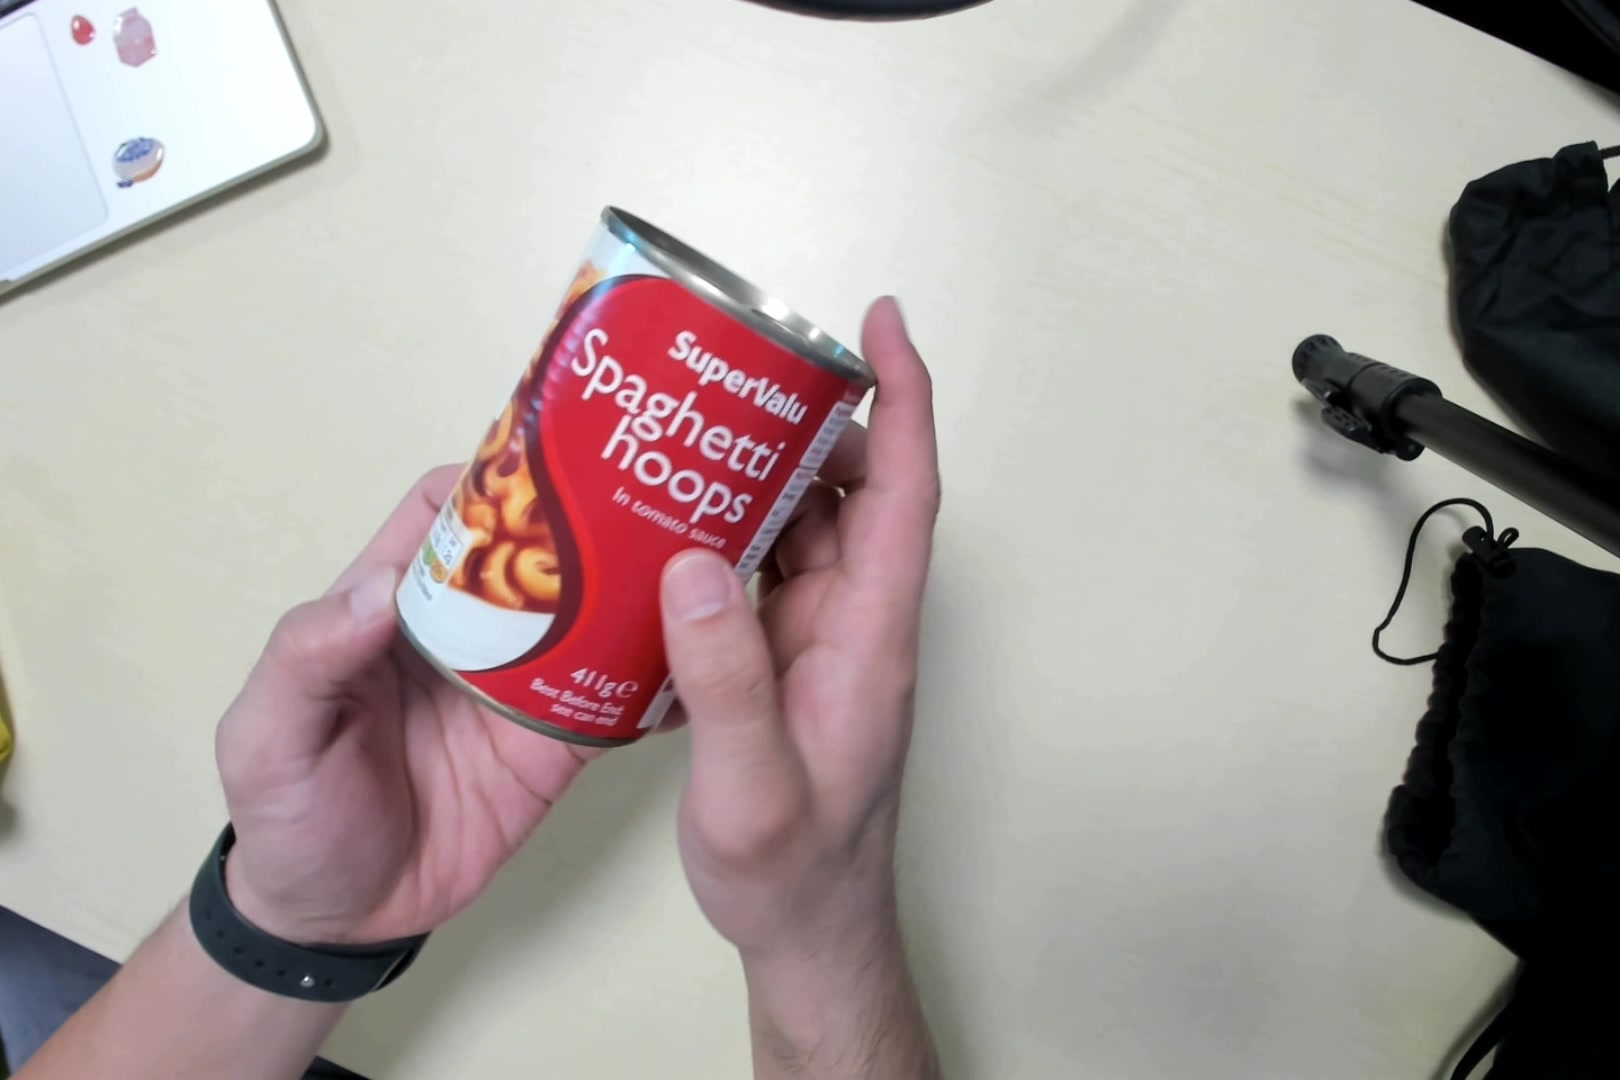InstantMeals_400-499g_NonHalal_NonHealthy: (397, 198, 877, 750)
